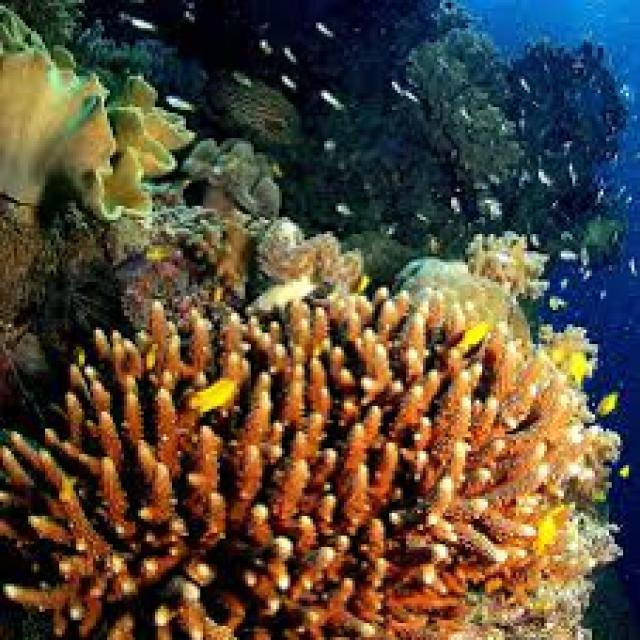Healthy: (1, 212, 618, 638), (1, 7, 193, 221)
